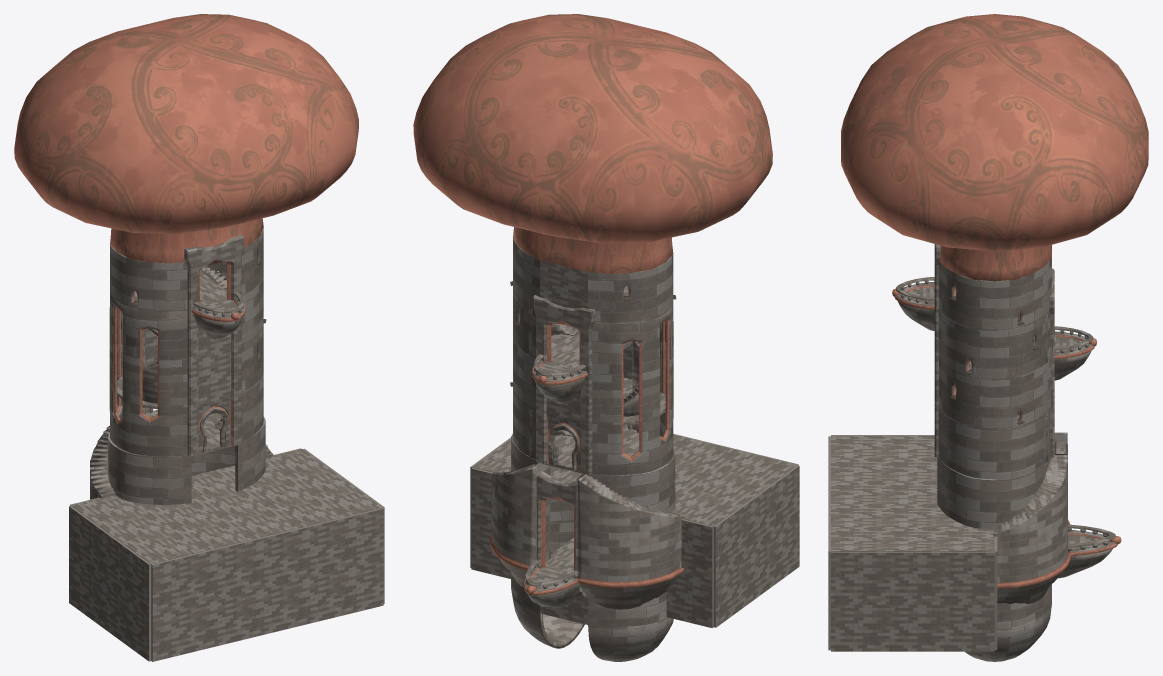
Rendered from big_nasty_scary_tower_boop.fbx.
The picture shows the model from 3 angles, left to right: view 1: azimuth 30°, elevation 25°; view 2: azimuth 150°, elevation 25°; view 3: azimuth 270°, elevation 25°; orthographic projection. The views are drawn at different scales.
Visible parts, largest first — view 1: dome_golden_top_big:polySurface1086, polySurface933polySurface920polySurface913, polySurface1007, tower_windows_bot:tower_windows_bot:polySurface955, dome_golden_top_big:polySurface933polySurface920polySurface9 (×3), tower_windows_bot:tower_windows_bot:tower_window_mid_copper2, tower_windows_bot:tower_windows_top2, stiars_interior:SM_Bld_Castle_Wall_73, stiars_interior:SM_Bld_Castle_Wall_77, stiars_interior:SM_Bld_Castle_Wall_79, stiars_interior:SM_Bld_Castle_Wall_81, stiars_interior:SM_Bld_Castle_Wall_74 (+39 smaller); view 2: dome_golden_top_big:polySurface1086, spiral_stairs_outer_1:polySurface8, spiral_stairs_outer_1:polySurface6, polySurface1007, tower_windows_bot:tower_windows_bot:polySurface955, tower_windows_bot:tower_windows_bot:tower_window_mid_copper2, tower_windows_bot:tower_windows_top2, walls_pillar_square:polySurface933polySurface920polySurface9 (×2), dome_golden_top_big:polySurface939, polySurface933polySurface920polySurface913, spiral_stairs_outer_1:SM_Bld_Castle_Wall_74, walls_pillar_square:walls_pillar_square:trim_doorway (+32 smaller); view 3: dome_golden_top_big:polySurface1086, dome_golden_top_big:polySurface933polySurface920polySurface9 (×2), spiral_stairs_outer_1:polySurface6, dome_golden_top_big:polySurface1007, dome_golden_top_big:dome_golden_top_big:polySurface1007, dome_golden_top_big:polySurface1087, stiars_interior:SM_Bld_Castle_Wall_68, spiral_stairs_outer_1:SM_Bld_Castle_Wall_65, spiral_stairs_outer_1:SM_Bld_Castle_Wall_68, stiars_interior:SM_Bld_Castle_Wall_67, spiral_stairs_outer_1:SM_Bld_Castle_Wall_67, spiral_stairs_outer_1:SM_Bld_Castle_Wall_66 (+17 smaller).
Part boxes in pixels (x1,y1,x2,y2): dome_golden_top_big:polySurface1086: (14,14,358,263); polySurface933polySurface920polySurface913: (108,432,191,504); polySurface1007: (110,245,187,311); tower_windows_bot:tower_windows_bot:polySurface955: (109,377,187,456); dome_golden_top_big:polySurface933polySurface920polySurface9 (×3): (191,373,265,491); tower_windows_bot:tower_windows_bot:tower_window_mid_copper2: (109,328,187,408); tower_windows_bot:tower_windows_top2: (109,293,187,359); stiars_interior:SM_Bld_Castle_Wall_73: (151,553,198,613); stiars_interior:SM_Bld_Castle_Wall_77: (244,530,291,590); stiars_interior:SM_Bld_Castle_Wall_79: (290,519,337,579); stiars_interior:SM_Bld_Castle_Wall_81: (336,508,383,568); stiars_interior:SM_Bld_Castle_Wall_74: (151,602,198,661); dome_golden_top_big:polySurface1086: (413,14,772,273); spiral_stairs_outer_1:polySurface8: (575,474,683,609); spiral_stairs_outer_1:polySurface6: (492,463,550,586); polySurface1007: (588,254,673,324); tower_windows_bot:tower_windows_bot:polySurface955: (592,392,673,475); tower_windows_bot:tower_windows_bot:tower_window_mid_copper2: (592,342,673,424); tower_windows_bot:tower_windows_top2: (592,305,673,374); walls_pillar_square:polySurface933polySurface920polySurface9 (×2): (511,520,666,626); dome_golden_top_big:polySurface939: (588,617,673,661); polySurface933polySurface920polySurface913: (588,450,675,511); spiral_stairs_outer_1:SM_Bld_Castle_Wall_74: (666,571,713,627); walls_pillar_square:walls_pillar_square:trim_doorway: (533,295,595,374); dome_golden_top_big:polySurface1086: (841,14,1148,281); dome_golden_top_big:polySurface933polySurface920polySurface9 (×2): (937,408,1051,529); spiral_stairs_outer_1:polySurface6: (993,454,1067,603); dome_golden_top_big:polySurface1007: (939,258,1051,330); dome_golden_top_big:dome_golden_top_big:polySurface1007: (938,309,1050,380); dome_golden_top_big:polySurface1087: (939,359,1050,429); stiars_interior:SM_Bld_Castle_Wall_68: (831,551,885,601); spiral_stairs_outer_1:SM_Bld_Castle_Wall_65: (940,551,994,601); spiral_stairs_outer_1:SM_Bld_Castle_Wall_68: (885,551,939,601); stiars_interior:SM_Bld_Castle_Wall_67: (831,602,885,651); spiral_stairs_outer_1:SM_Bld_Castle_Wall_67: (885,602,939,651); spiral_stairs_outer_1:SM_Bld_Castle_Wall_66: (940,602,994,651).
Bounding box in the file's own units: 33.32 × 60.77 × 29.37.
